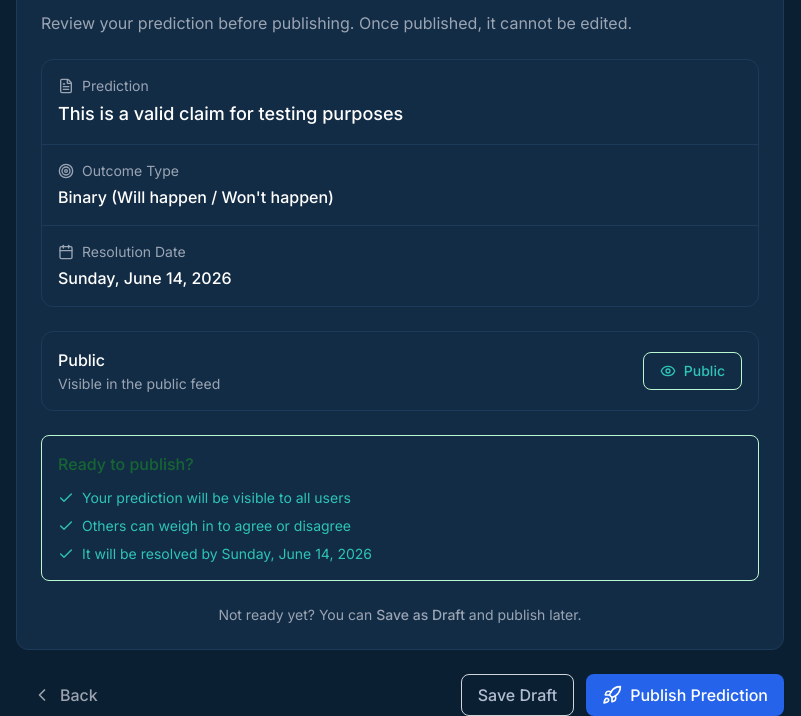
Test case: ForecastWizard › submit guard — publish with stale/incomplete draft › navigates to step 3 and shows error when resolutionRules is missing
(page scrolled)
Click the button "Publish Prediction" at (685, 695), box [586,674,784,715]
(page scrolled)
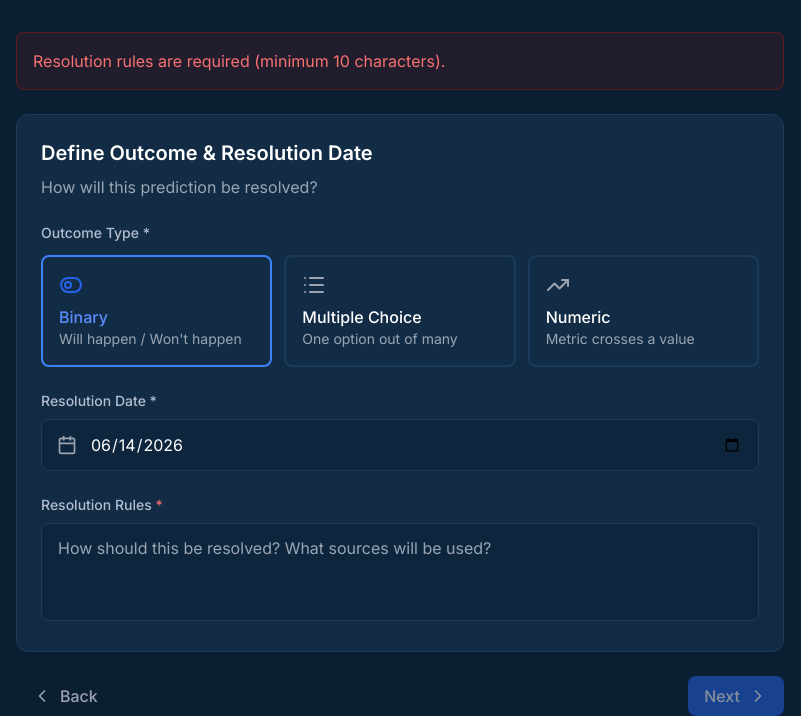
Expected: the text "Resolution rules are required (minimum 10 characters)." is shown, [16,32,784,90]
